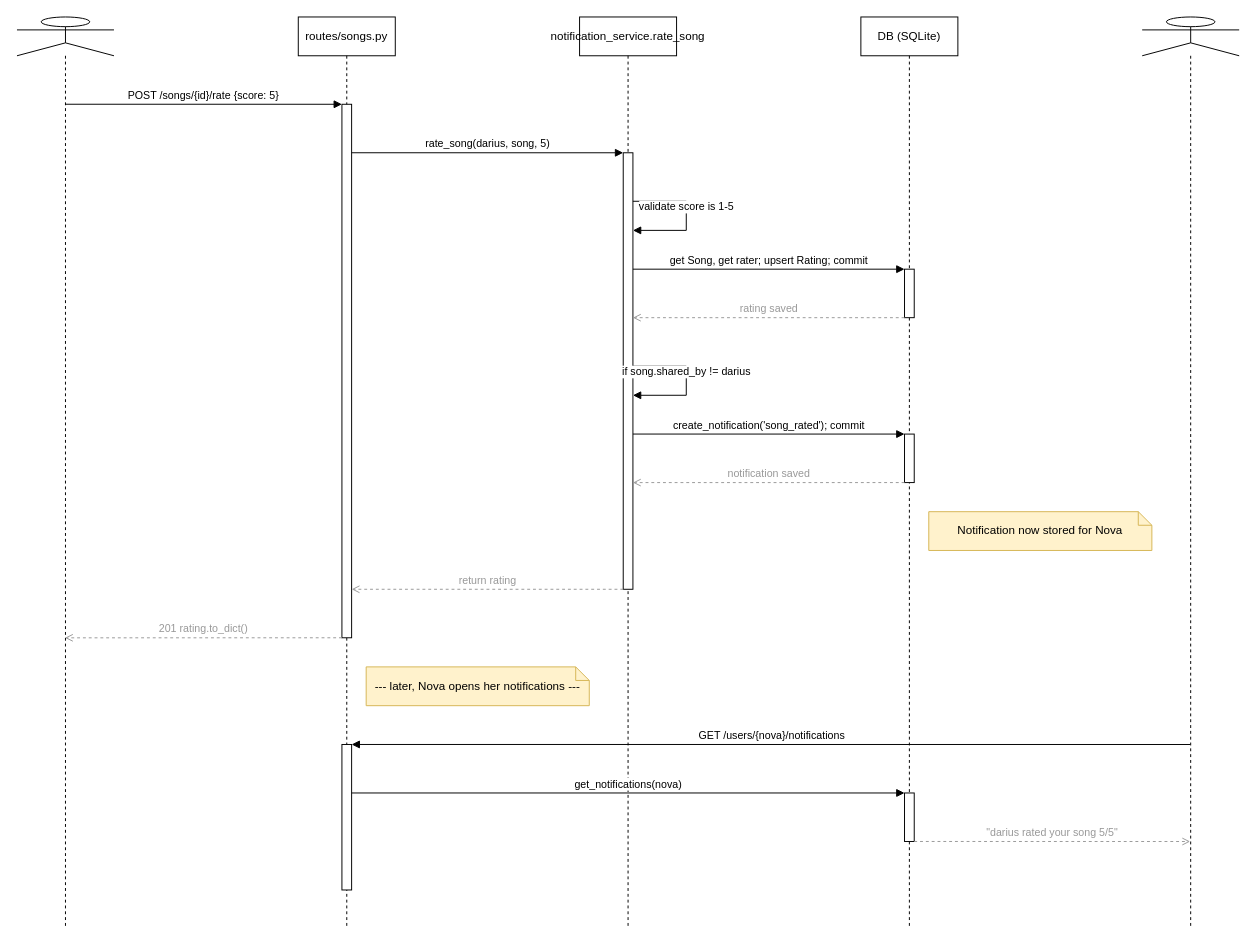
Image size: 1256x946. Some labels were removed from this diagram. Here are the shapes that lost their labels. From the top down, the box of each, then its label:
(16, 16, 114, 929): Darius (rater)
(1141, 16, 1239, 929): Nova (sharer)
